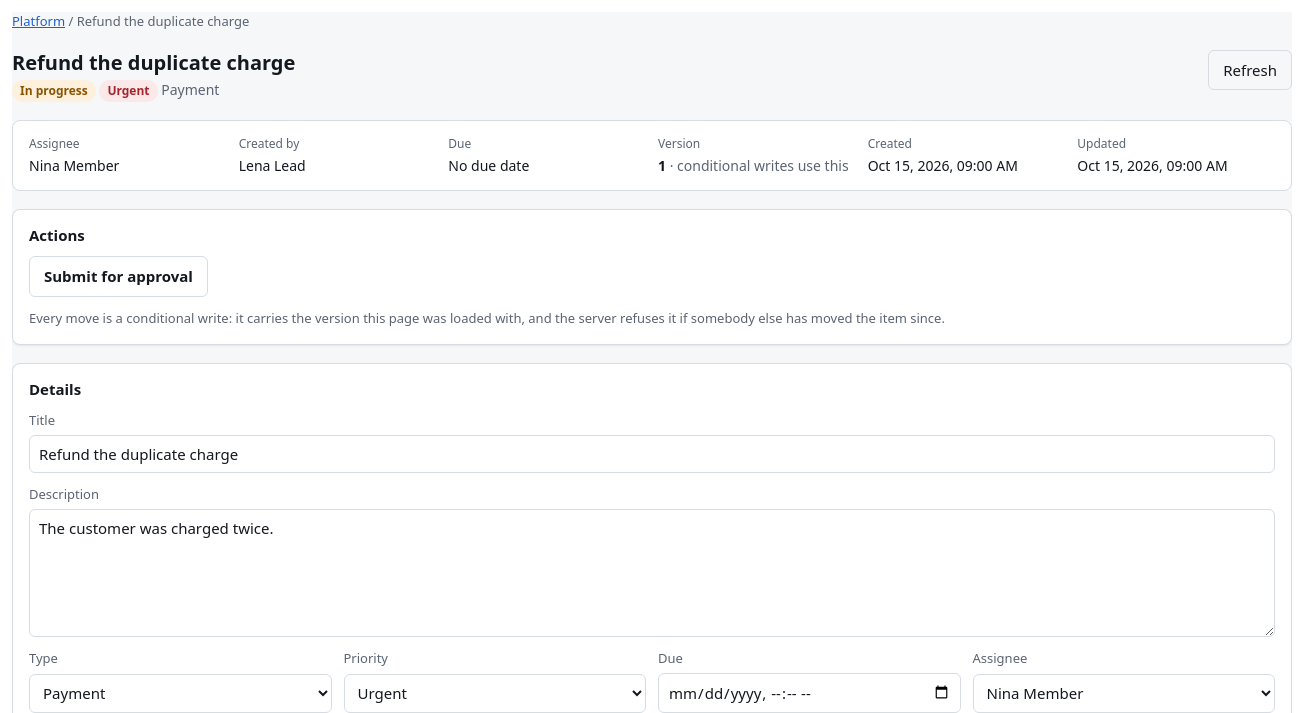
it: ItemDetailPage › refuses a stale transition, says so, and offers a reload
Step 1. Click the button "Submit for approval" → (118, 277), box [29,256,208,297]
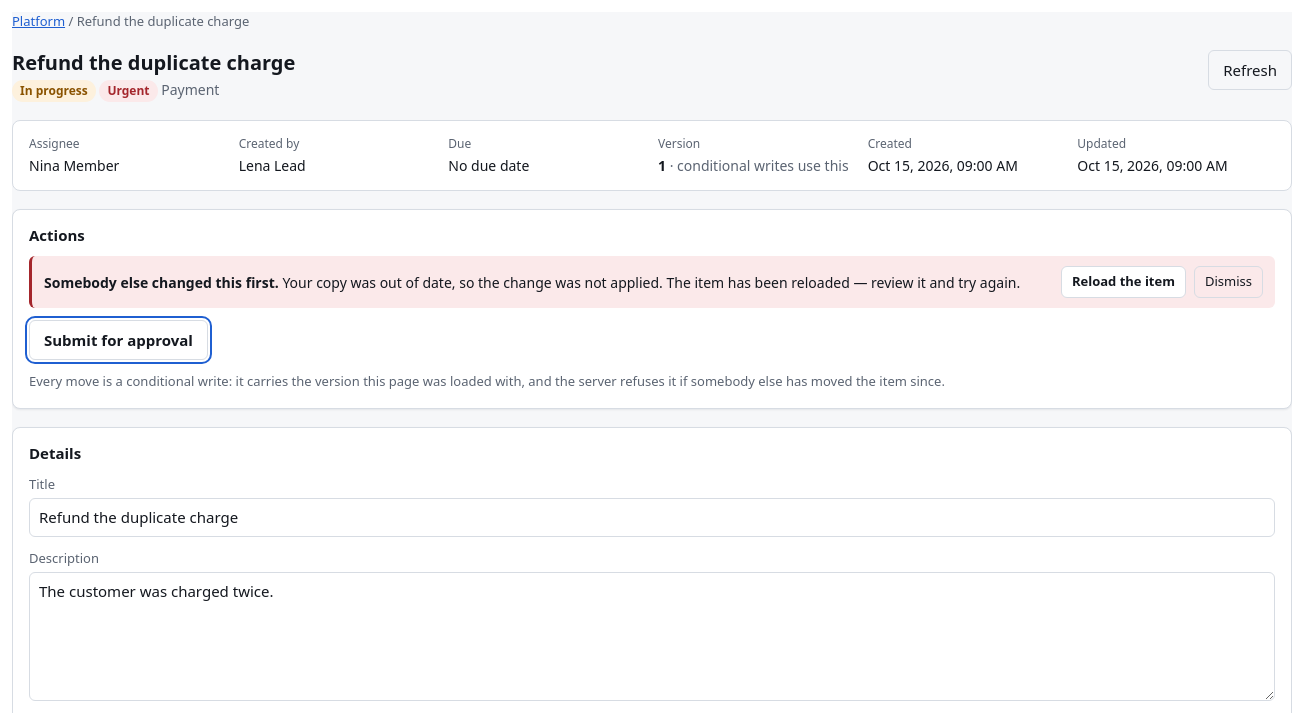
Check: the message shows "Somebody else changed this first", box [44,272,275,292]
Check: the message shows "was not applied", box [282,272,1020,292]
Check: the button "Reload the item" is shown, box [1061,266,1186,298]
